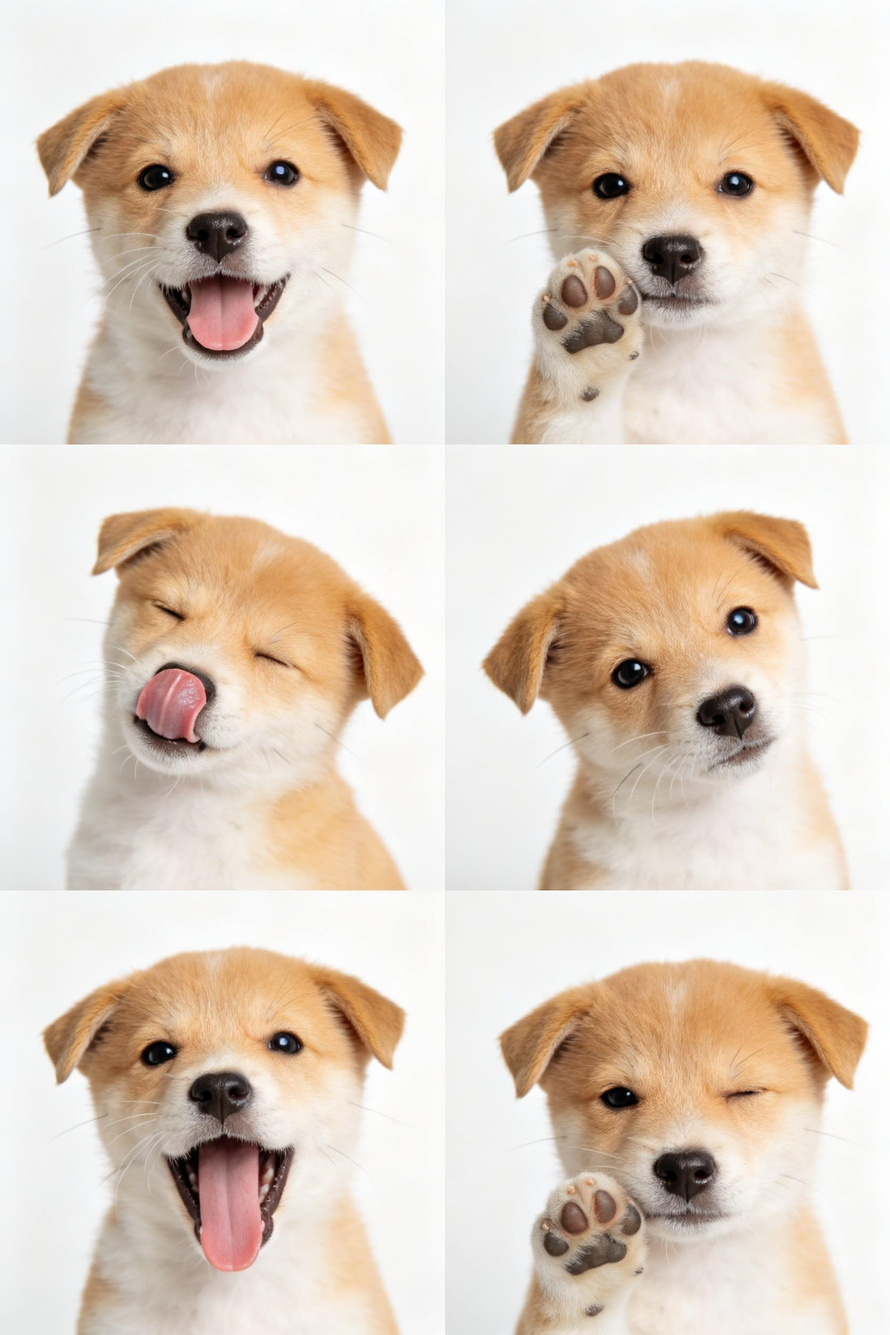puppy-dog: (38, 941, 409, 1335), (32, 55, 405, 445), (478, 505, 853, 892), (493, 951, 870, 1335), (491, 57, 863, 445), (59, 504, 428, 892)
